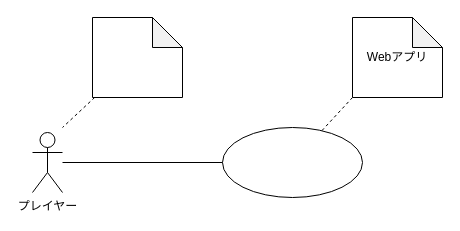
This 460x231 diagram has some shape labels left out. The box of each missing label's shape, as (x1, y1, x2, y2) in pixels:
リバーシ アプリケーション: (222, 126, 362, 198)
一人で黒白 交互に打ち: (92, 16, 182, 98)
